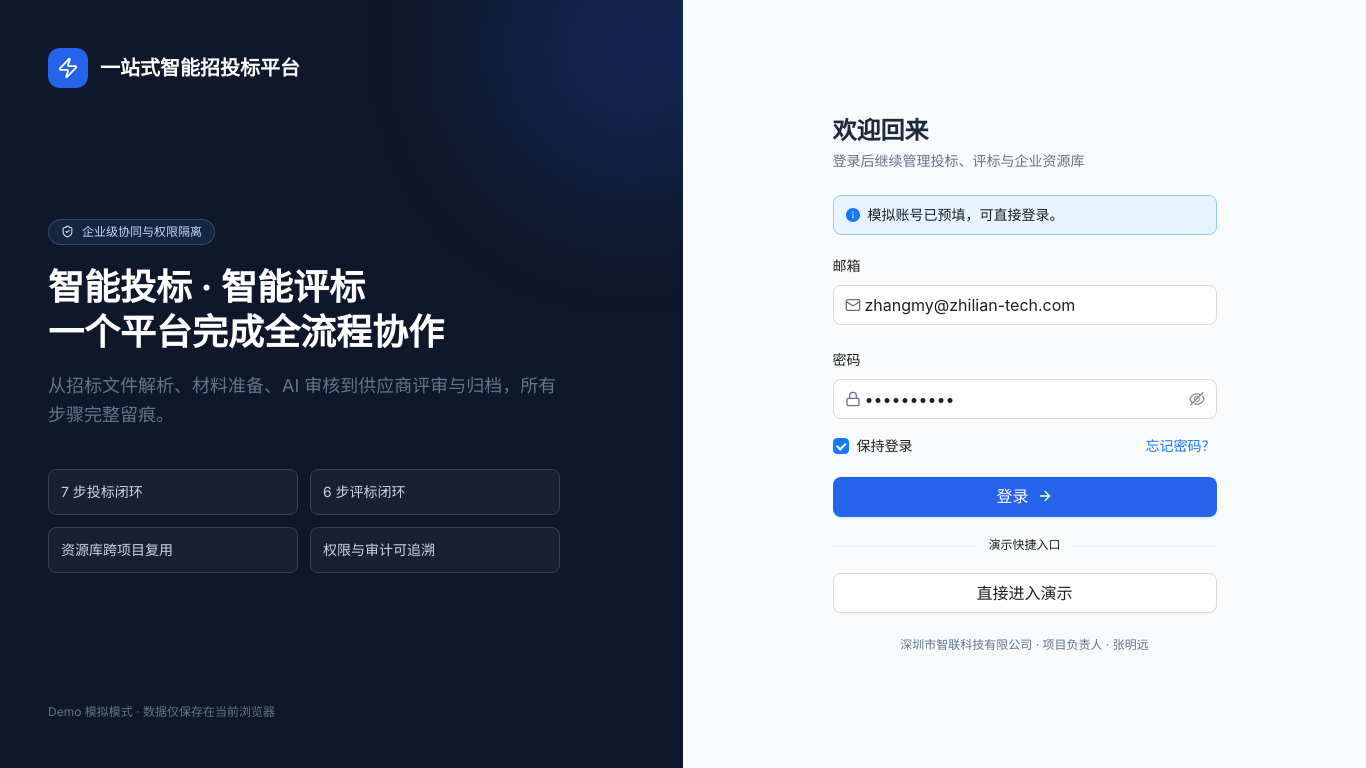
M3 page smoke and accessibility › provides labelled login controls and password recovery
The width and height of the screenshot is (1366, 768).
Check: the field labelled "邮箱" is shown, box 864,293 -> 1204,317
Check: the password field labelled "密码" is shown, box 864,387 -> 1184,411
Step 1. Click the button "忘记密码？" → (1180, 446), box 1144,437 -> 1216,455
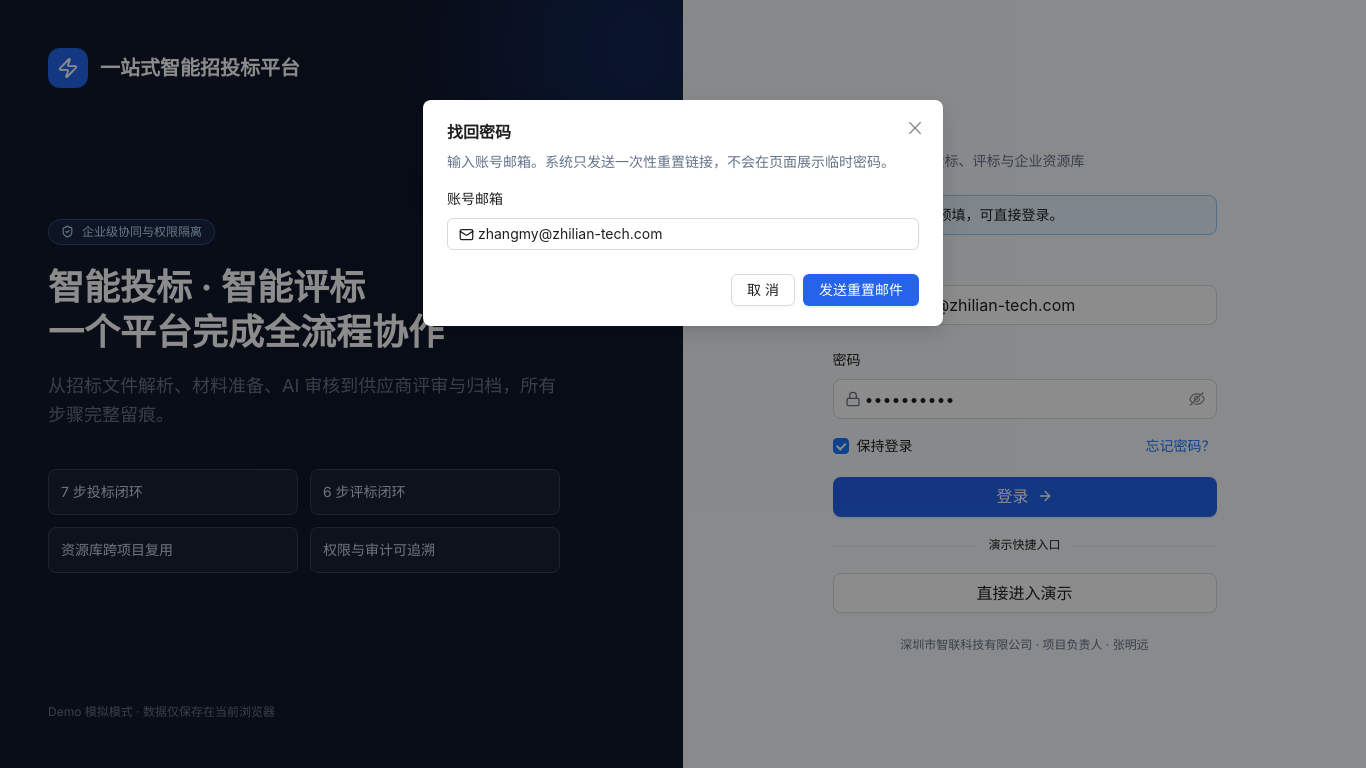
Check: the dialog "找回密码" is shown, box 423,100 -> 943,350
